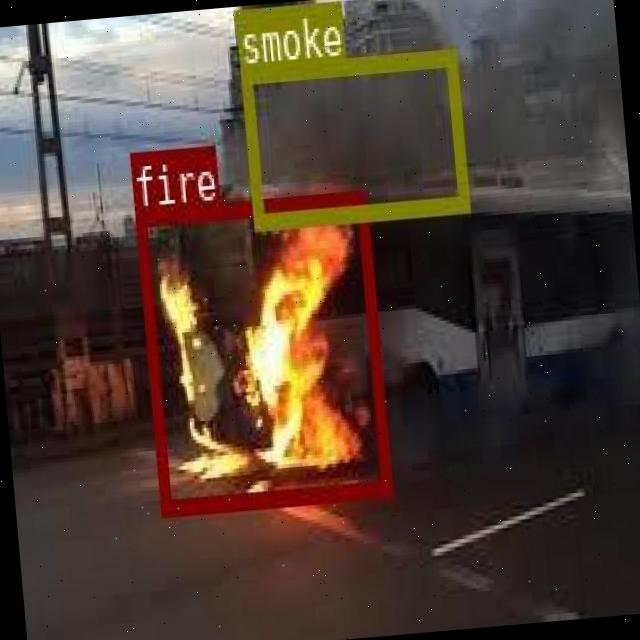fire: (134, 187, 388, 513)
smoke: (239, 46, 466, 226)
